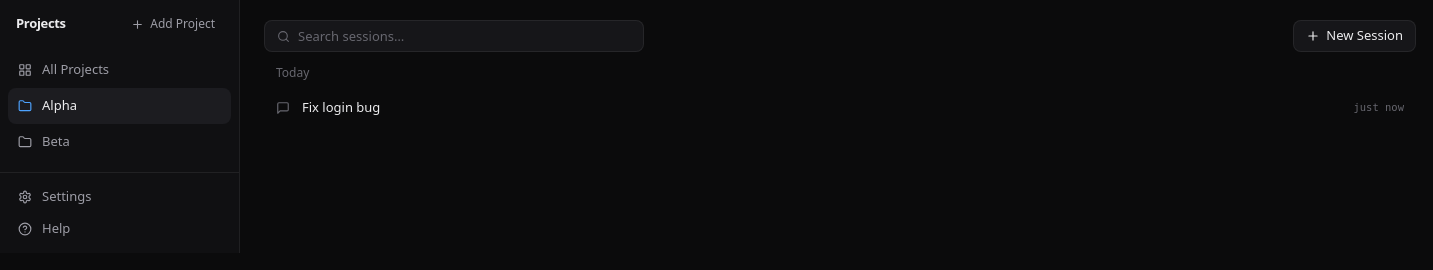
Test case: ProjectsHome › shows the filtered empty state when nothing matches
The width and height of the screenshot is (1433, 270).
Step 1. Type "zzz" into the field with test id "home-search" → (464,36), box [298,21,631,51]
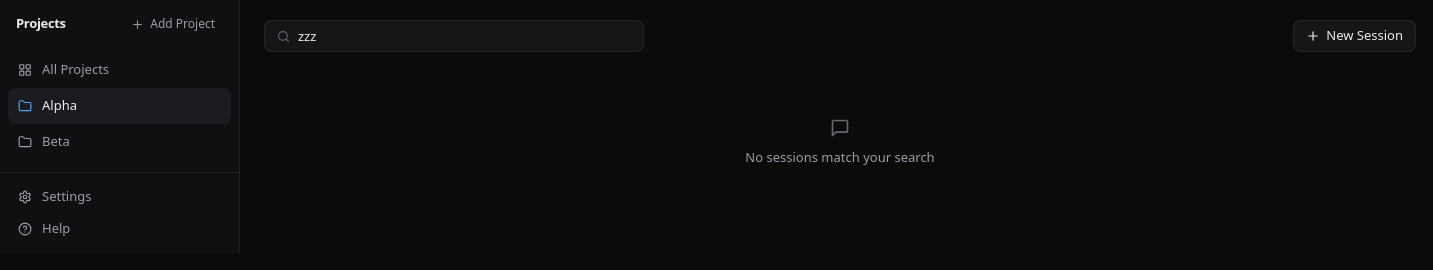
Expected: the element with test id "home-empty" is shown, [745,118,935,166]
Expected: the element with test id "sessions-list" reads "No sessions match your search", [745,148,935,166]
